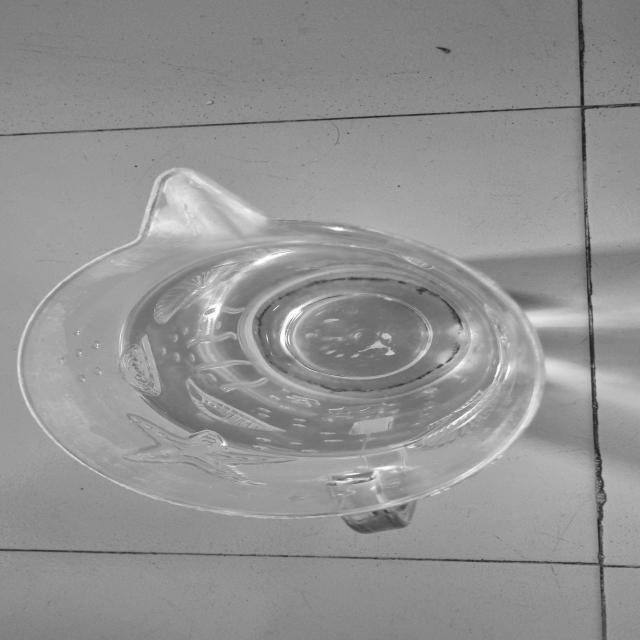Breeding Place: (0, 164, 559, 534)
